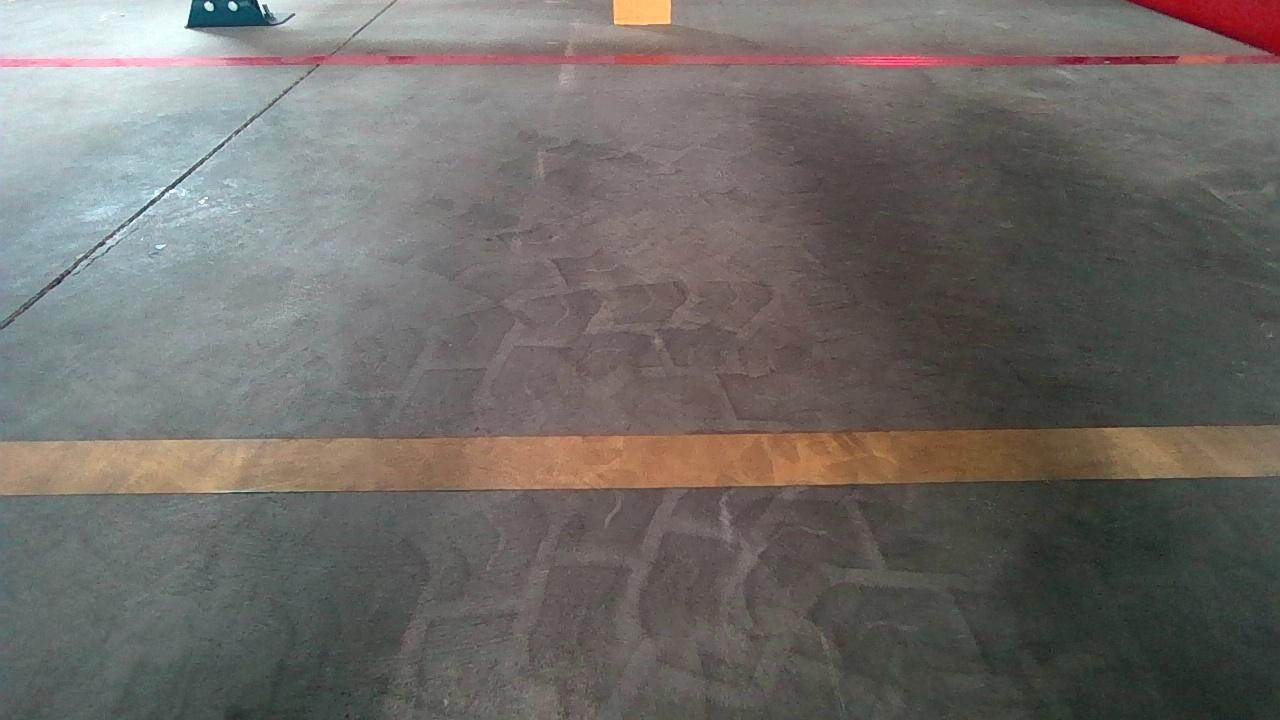red_line: (22, 47, 1242, 83)
yellow_line: (0, 422, 1267, 495)
